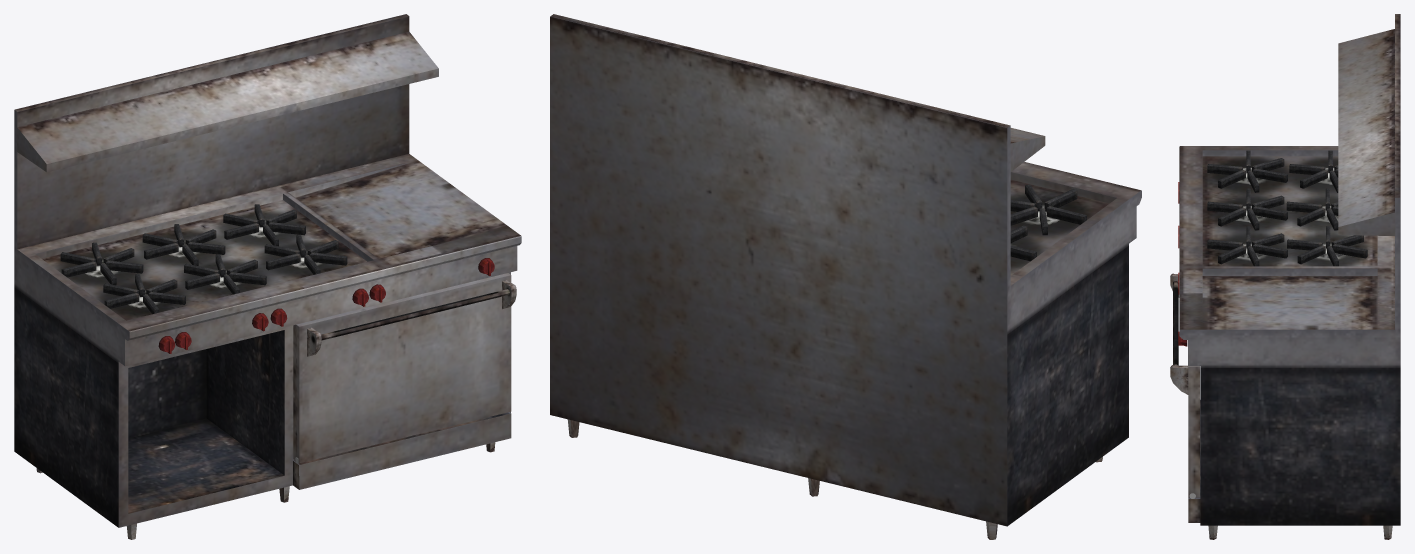
File: kitchen_cooker.dae
3 views of the same model, side by side, from view 1: azimuth 30°, elevation 25°; view 2: azimuth 150°, elevation 25°; view 3: azimuth 270°, elevation 25° (orthographic). The views are drawn at different scales.
Visible parts, largest first — view 1: cooker, lid; view 2: cooker; view 3: cooker, lid.
Boxes of the visible parts, x1,y1,x2,y2 form: cooker: [14, 14, 521, 539]; lid: [293, 273, 516, 463]; cooker: [550, 14, 1141, 539]; cooker: [1178, 14, 1400, 539]; lid: [1170, 273, 1199, 497].
Size of what is drawn, in the model's own units: 2.01 by 1.78 by 1.07.
